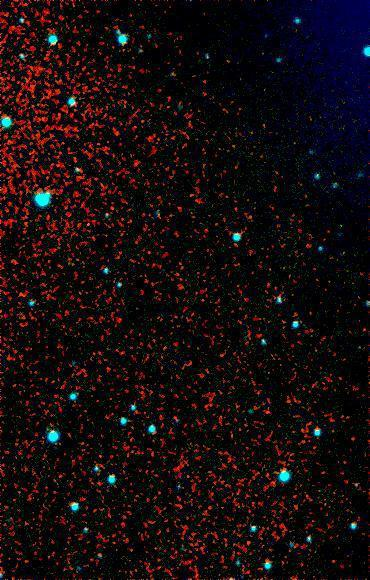star: (72, 210, 102, 240)
